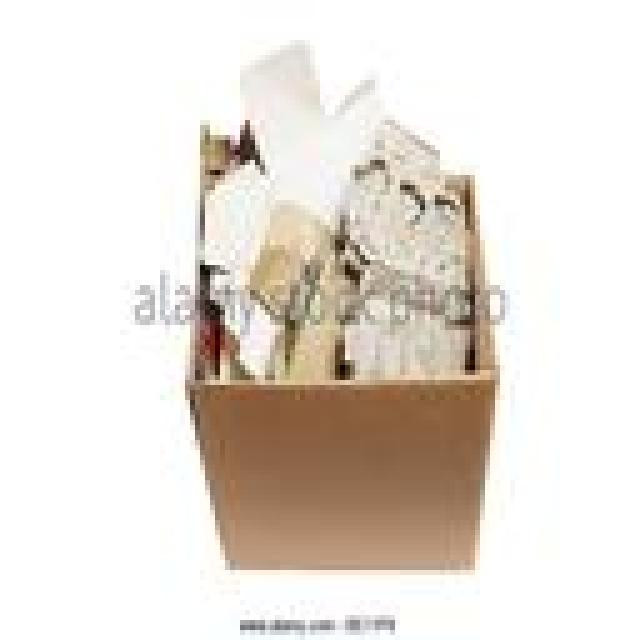cardboard: (185, 170, 495, 565), (330, 120, 470, 300), (335, 260, 475, 375), (235, 40, 330, 200), (230, 200, 330, 310), (195, 150, 280, 260), (320, 70, 385, 180), (280, 250, 335, 370), (210, 300, 280, 385), (195, 120, 250, 185), (195, 295, 230, 370)
